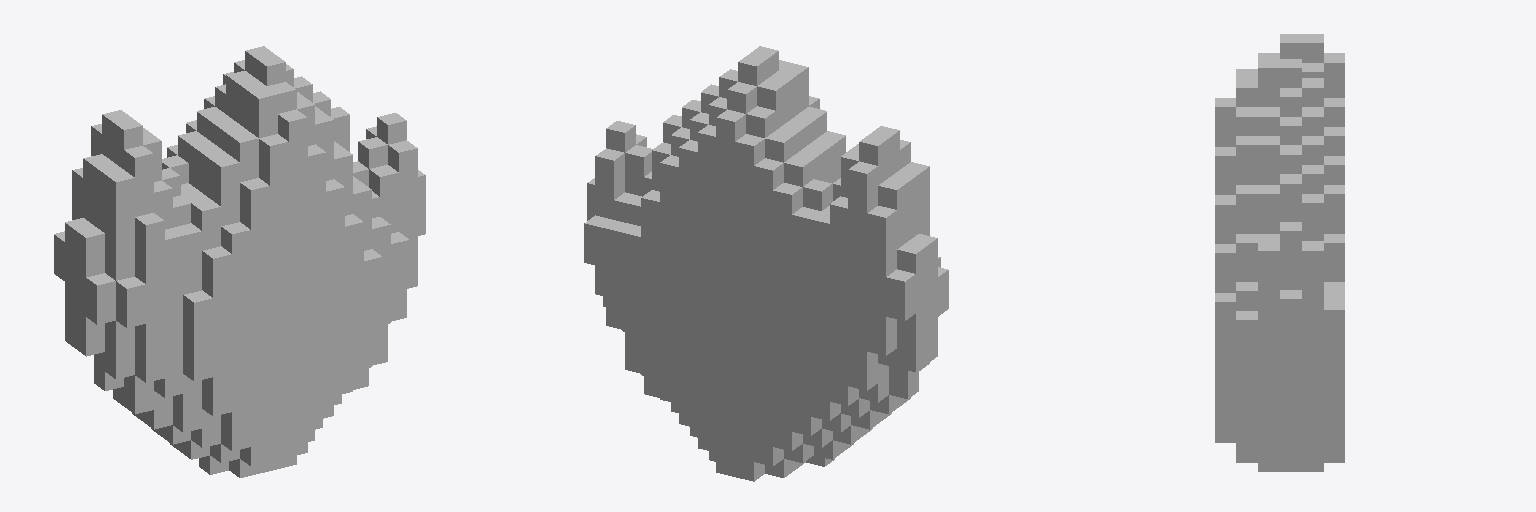
Rendered from fire.obj.
3 renders of one model, left to right at view 1: azimuth 30°, elevation 25°; view 2: azimuth 150°, elevation 25°; view 3: azimuth 270°, elevation 25°, orthographic.
Parts seen in each view (by area): view 1: object 1; view 2: object 1; view 3: object 1.
Part boxes in pixels (x1,y1,x2,y2): object 1: (54,46,425,477); object 1: (584,46,948,481); object 1: (1215,34,1344,471).
Bounding box in the file's own units: 1.8 × 2 × 0.6.